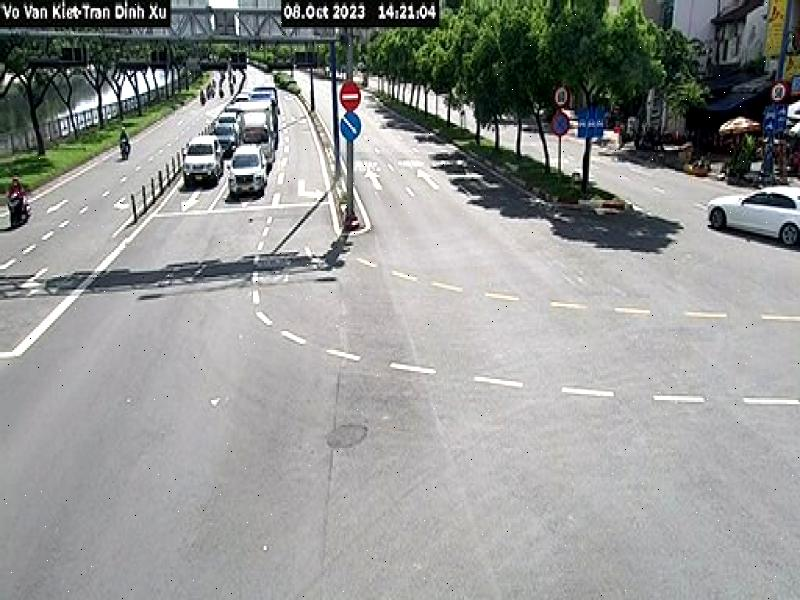car: (228, 145, 268, 199), (184, 135, 224, 189)
truck: (237, 102, 275, 172)
